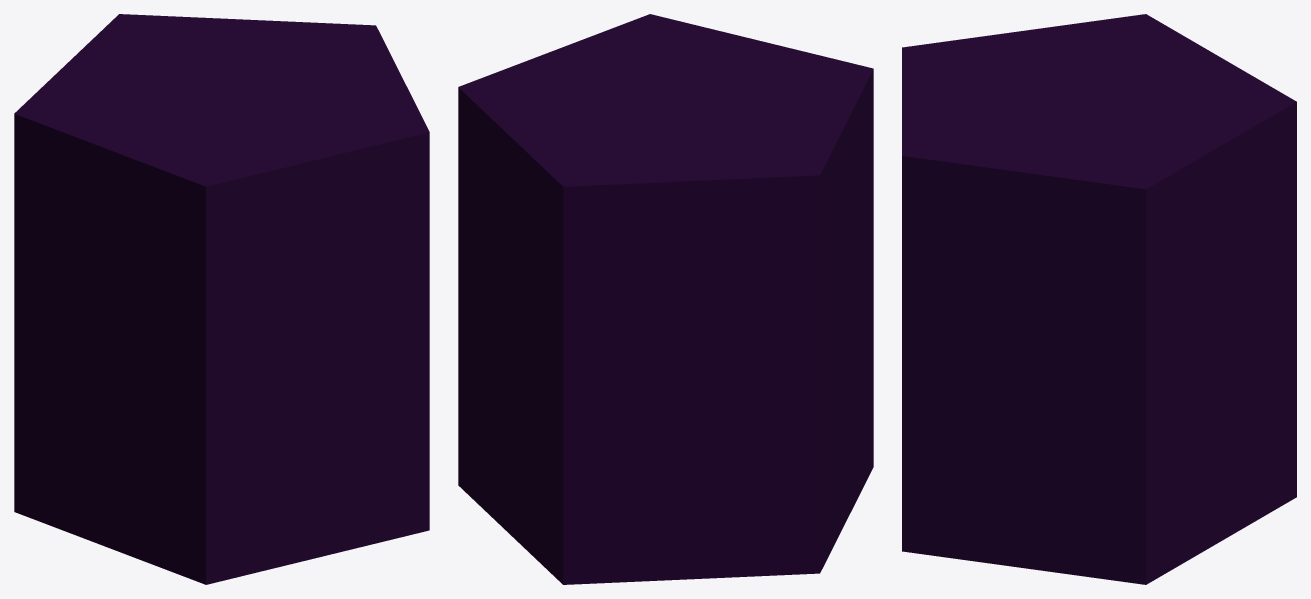
File: endcolumns.fbx
3 views of the same model, side by side, from view 1: azimuth 30°, elevation 25°; view 2: azimuth 150°, elevation 25°; view 3: azimuth 270°, elevation 25° (orthographic).
Visible parts, largest first — view 1: Cylinder.003; view 2: Cylinder.003; view 3: Cylinder.003.
Boxes of the visible parts, bbox=[...] form: Cylinder.003: bbox=[14, 14, 429, 584]; Cylinder.003: bbox=[458, 14, 873, 584]; Cylinder.003: bbox=[902, 14, 1296, 584].
Bounding box in the file's own units: 190 × 200 × 181.
